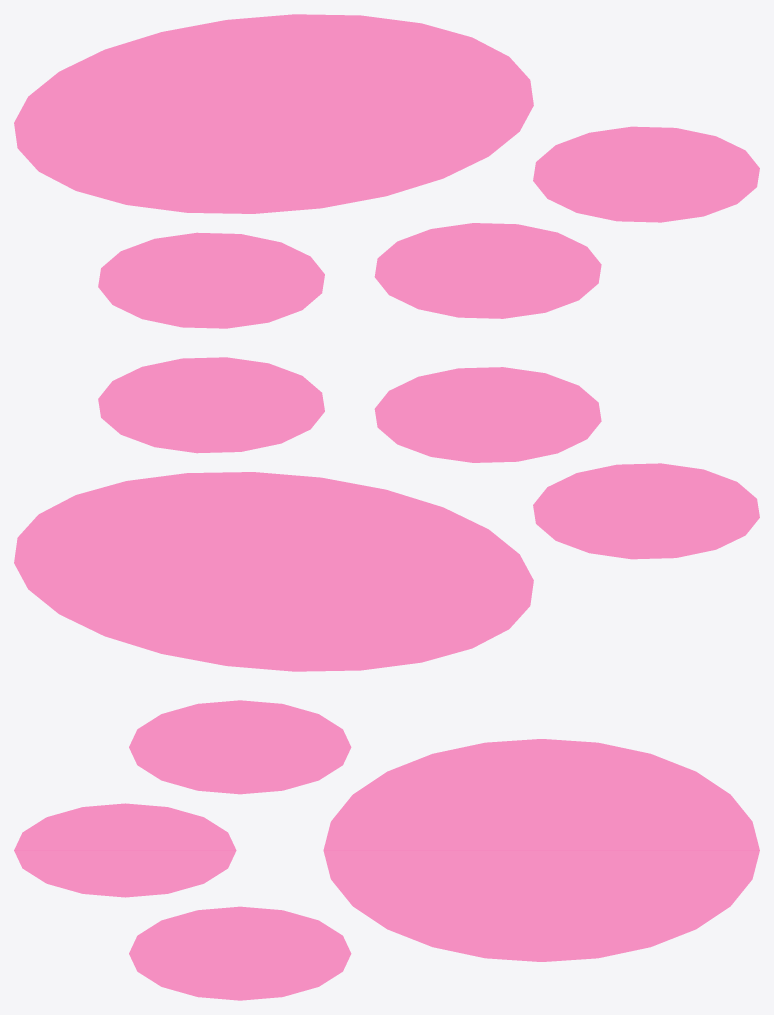
File: poppy_paw_girl.glb
3 views of the same model, one above another, from view 1: azimuth 30°, elevation 25°; view 2: azimuth 150°, elevation 25°; view 3: azimuth 270°, elevation 25° (orthographic). The views are drawn at different scales.
Parts seen in each view (by area): view 1: Paw; view 2: Paw; view 3: Paw.
Part boxes in pixels (x1=…): Paw: x1=14, y1=14, x2=759, y2=328; Paw: x1=14, y1=357, x2=759, y2=671; Paw: x1=14, y1=700, x2=759, y2=1000.
Bounding box in the file's own units: 0.099 × 3.47e-18 × 0.1039.
